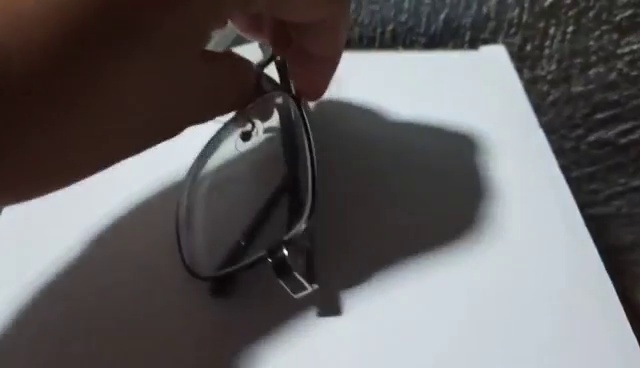glasses: (176, 18, 343, 310)
